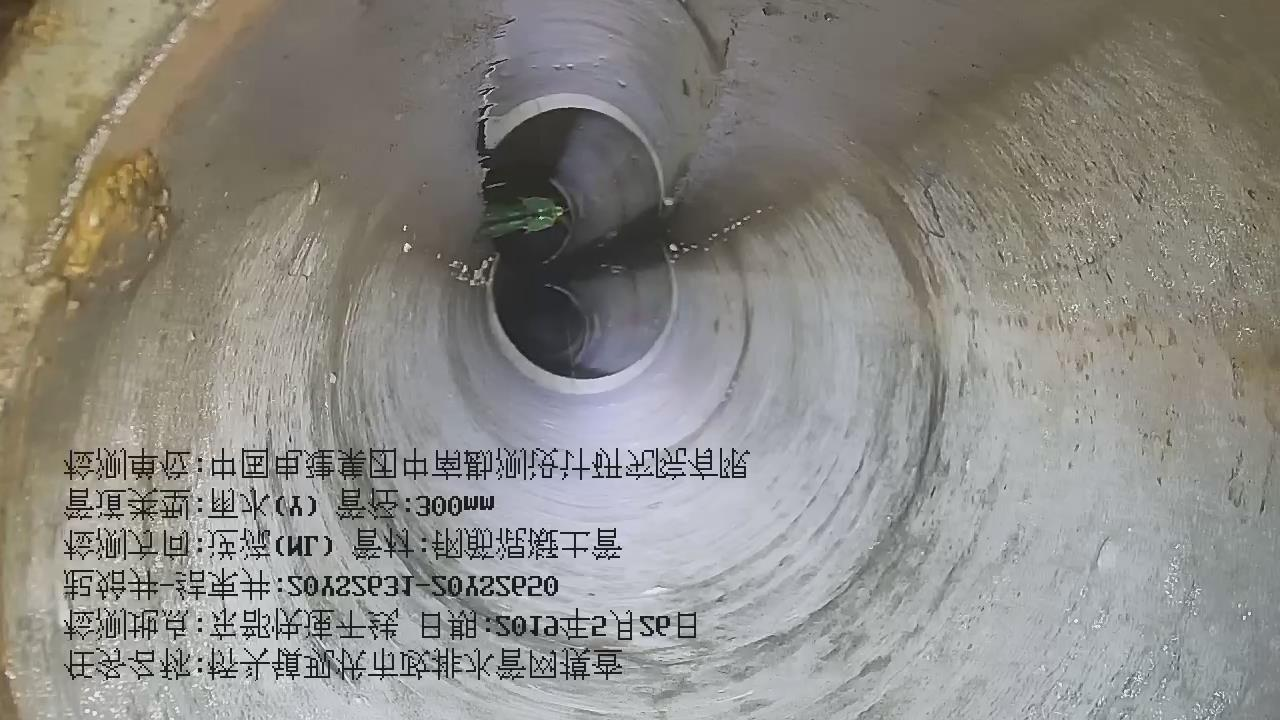CKTJ: (485, 266, 678, 395)
